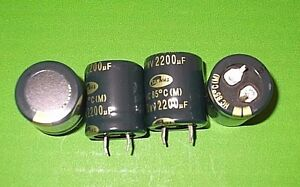capacitor: (143, 52, 210, 133), (15, 61, 85, 138), (84, 60, 147, 141), (207, 54, 275, 129)
